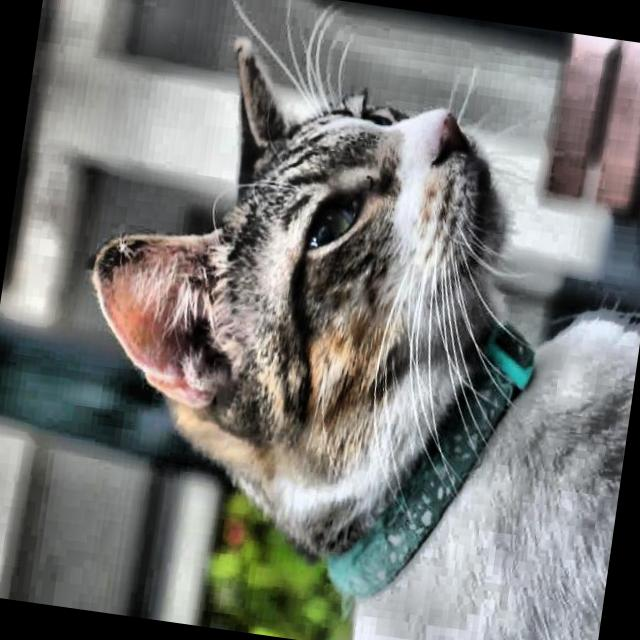Healthy skin: (77, 28, 370, 428), (370, 96, 520, 377)
